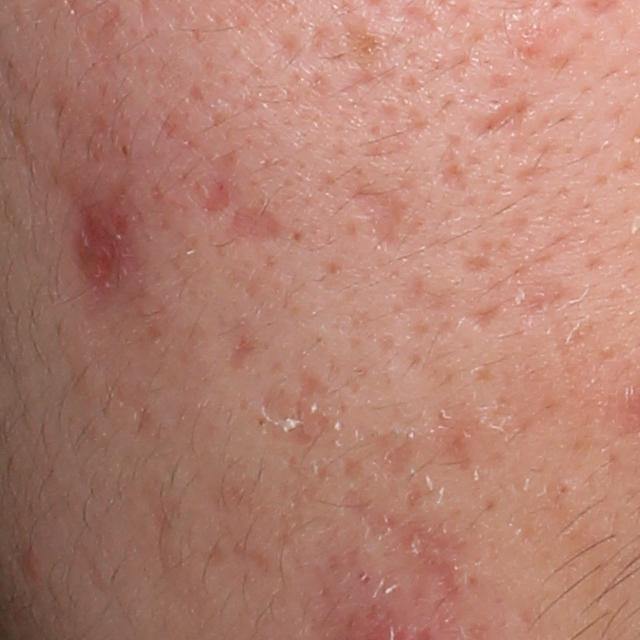atrophic_scar: (283, 15, 405, 75), (81, 189, 132, 304), (349, 188, 412, 254), (360, 426, 418, 482), (475, 91, 528, 139), (228, 205, 274, 242), (438, 157, 478, 194), (226, 332, 261, 374), (459, 306, 503, 332), (461, 251, 492, 279)
comedo: (555, 476, 574, 501)
papule: (18, 547, 47, 582)
